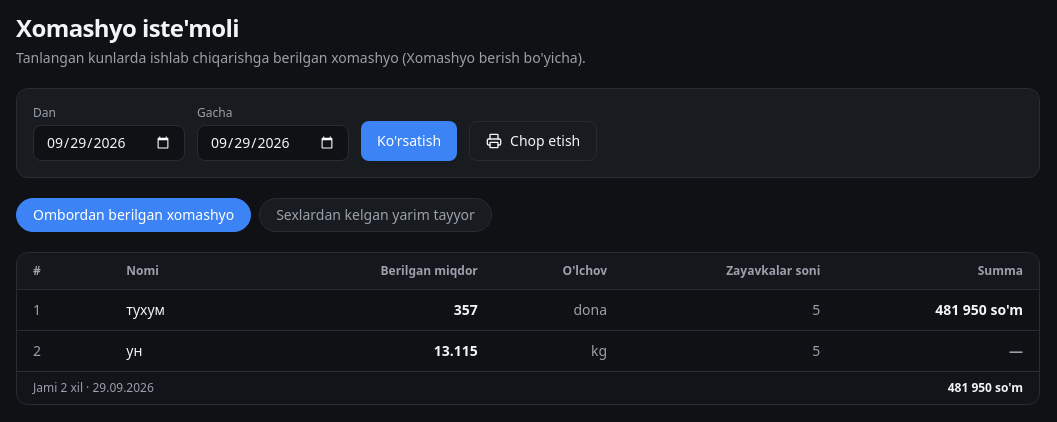
it: RawMaterialsUsagePage › shows warehouse-issued raw materials first and semi hand-overs on their own tab
Check: the text "тухум" is shown, box top-left (110, 290), bottom-right (275, 330)
Check: the text "ун" is shown, box top-left (110, 330), bottom-right (275, 372)
Step 1. Click the tab "Sexlardan kelgan yarim tayyor" → (375, 215), box top-left (259, 198), bottom-right (492, 232)
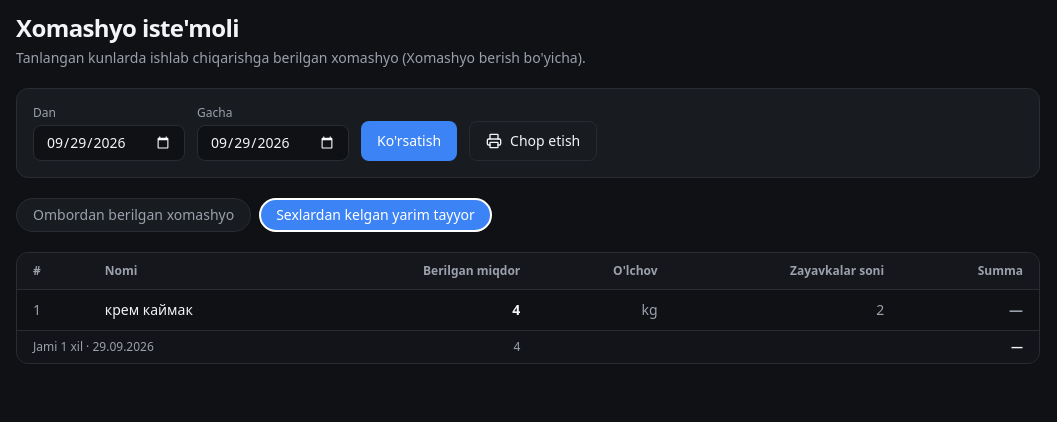
Check: the text "крем каймак" is shown, box top-left (89, 290), bottom-right (304, 330)
Check: the text "тухум" is gone
